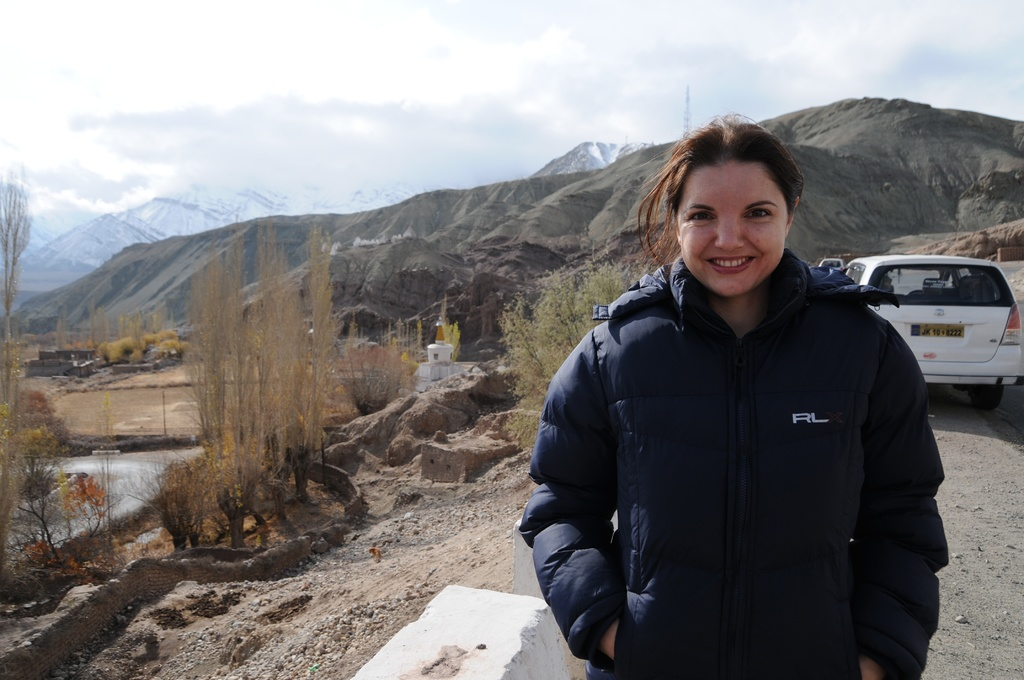mobil: (822, 237, 1024, 399)
